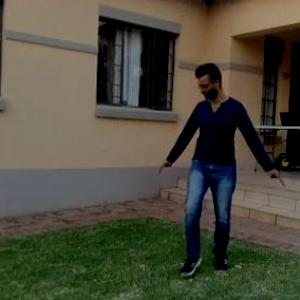land: (138, 52, 279, 292)
